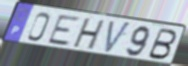0: (27, 12, 52, 42)
9: (126, 25, 152, 58)
B: (146, 27, 179, 61)
E: (45, 14, 83, 47)
H: (71, 17, 107, 51)
V: (103, 19, 132, 55)
